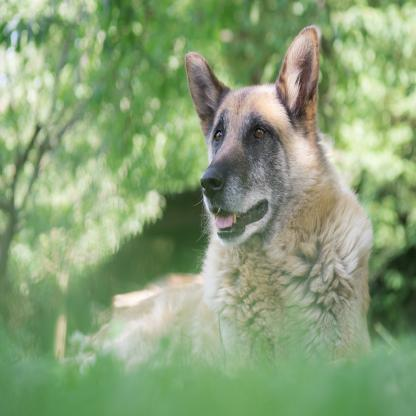dog: (82, 23, 372, 368)
